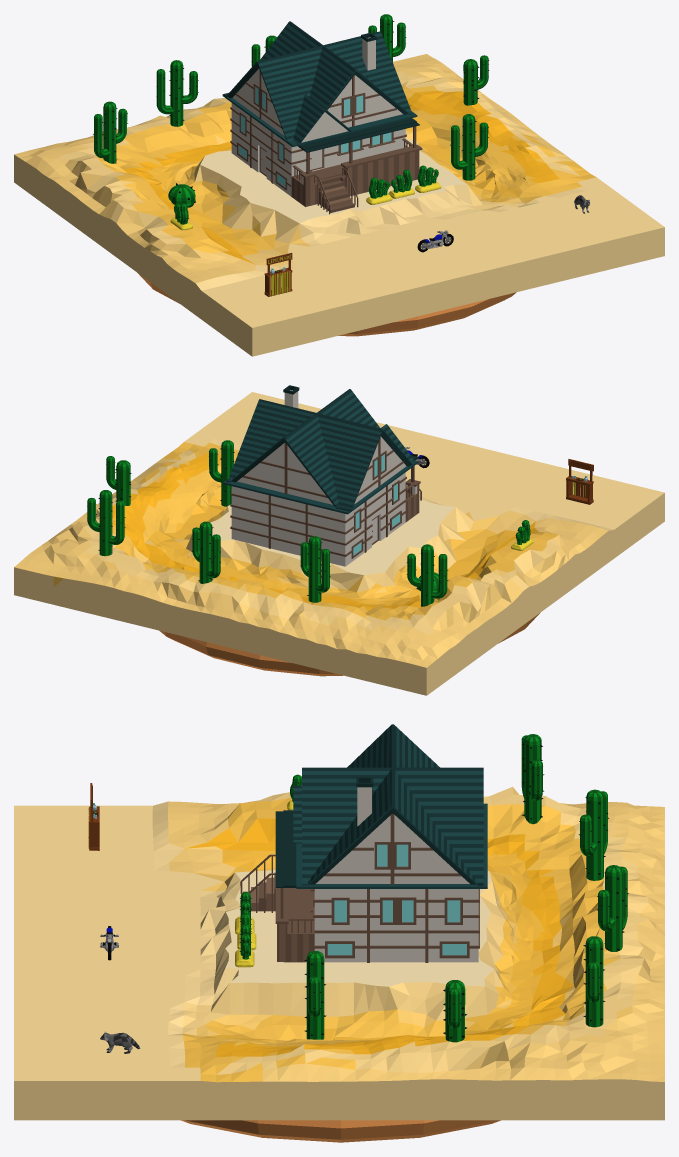
3 renders of one model, top to bottom at view 1: azimuth 30°, elevation 25°; view 2: azimuth 150°, elevation 25°; view 3: azimuth 270°, elevation 25°, orthographic. The views are drawn at different scales.
Visible parts, largest first — view 1: Cube.001, Cube.793, UNDERGROUND_PIZZA, Cylinder.044, Cylinder.037, Cylinder.045, Cylinder.038, OBJRANDOM_LEMONADE_STAND, Cylinder.042, Cylinder.039, Cylinder.041, Sphere.023; view 2: Cube.001, Cube.793, UNDERGROUND_PIZZA, Cylinder.042, Cylinder.045, Cylinder.044, Cylinder.043, Cylinder.037, OBJRANDOM_LEMONADE_STAND, Cylinder.038; view 3: Cube.001, Cube.793, UNDERGROUND_PIZZA, Cylinder.043, Cylinder.044, Cylinder.045, Cylinder.042, Cylinder.037, Cylinder.038, Cylinder.041, OBJRANDOM_LEMONADE_STAND.
Boxes of the visible parts, x1,y1,x2,y2 form: Cube.001: (14, 54, 664, 356); Cube.793: (222, 21, 422, 214); UNDERGROUND_PIZZA: (138, 273, 516, 336); Cylinder.044: (156, 60, 198, 126); Cylinder.037: (450, 114, 488, 180); Cylinder.045: (93, 101, 127, 163); Cylinder.038: (463, 55, 489, 105); OBJRANDOM_LEMONADE_STAND: (264, 252, 292, 296); Cylinder.042: (368, 14, 406, 62); Cylinder.039: (366, 177, 392, 204); Cylinder.041: (415, 165, 441, 192); Sphere.023: (168, 183, 195, 207); Cube.001: (14, 392, 664, 695); Cube.793: (223, 385, 421, 566); UNDERGROUND_PIZZA: (159, 613, 539, 676); Cylinder.042: (87, 490, 125, 556); Cylinder.045: (406, 544, 448, 606); Cylinder.044: (300, 536, 330, 602); Cylinder.043: (192, 521, 220, 583); Cylinder.037: (209, 440, 238, 506); OBJRANDOM_LEMONADE_STAND: (566, 459, 593, 504); Cylinder.038: (106, 456, 131, 505); Cube.001: (14, 786, 664, 1120); Cube.793: (240, 724, 487, 962); UNDERGROUND_PIZZA: (181, 1120, 500, 1142); Cylinder.043: (597, 865, 628, 951); Cylinder.044: (579, 789, 608, 880); Cylinder.045: (521, 734, 544, 824); Cylinder.042: (583, 936, 605, 1027); Cylinder.037: (304, 951, 326, 1039); Cylinder.038: (443, 980, 467, 1042); Cylinder.041: (235, 924, 254, 967); OBJRANDOM_LEMONADE_STAND: (88, 783, 99, 850).
Size of the model in its own units: 4002 by 1839 by 4001.
31 materials, 3 textured.
